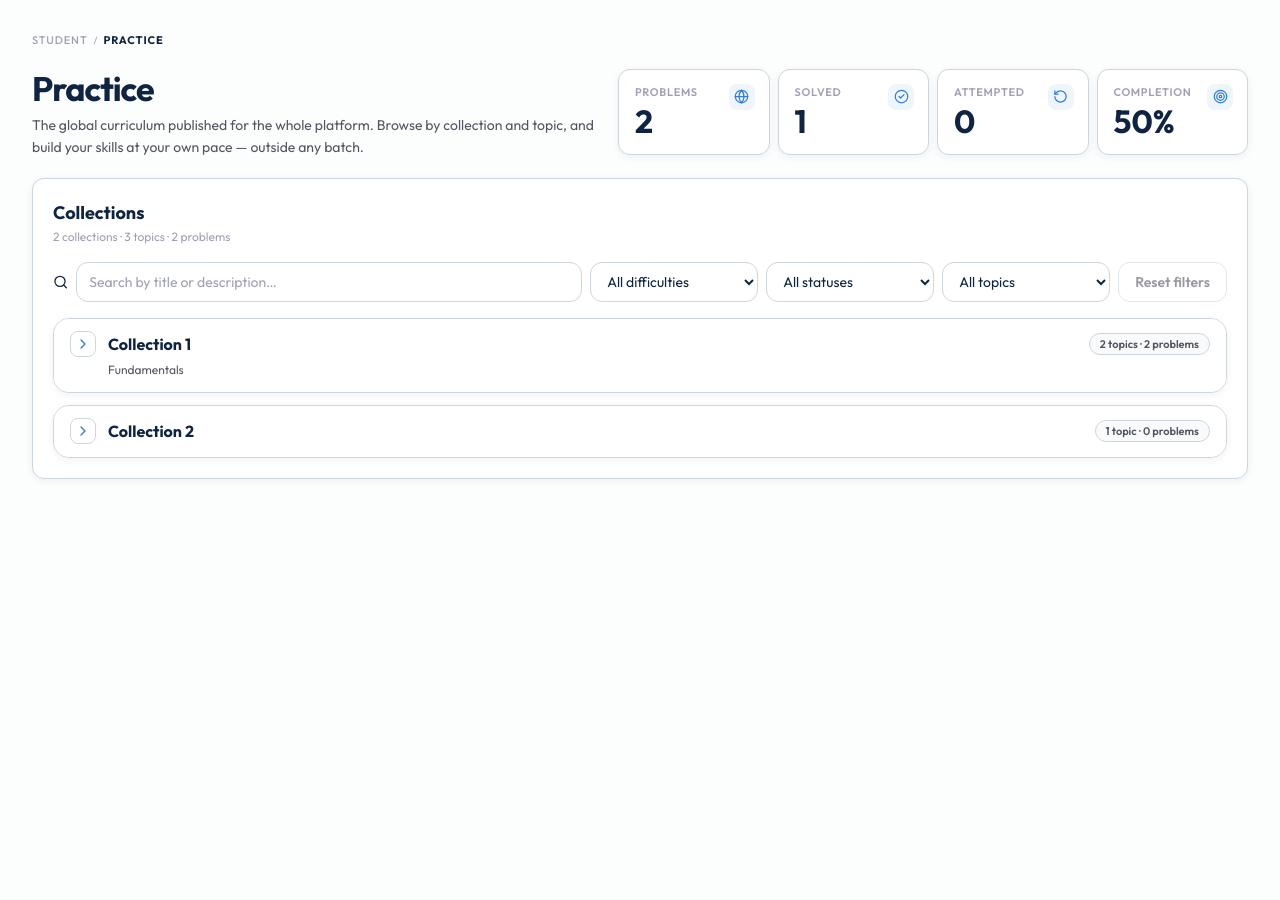
Test: a topic expands and collapses independently of its siblings
Expected: the text "Collection 1" is shown, [108,334,191,354]
Click the button "Collection 1 2 topics · 2 problems": (150, 344) [70,331,1210,357]
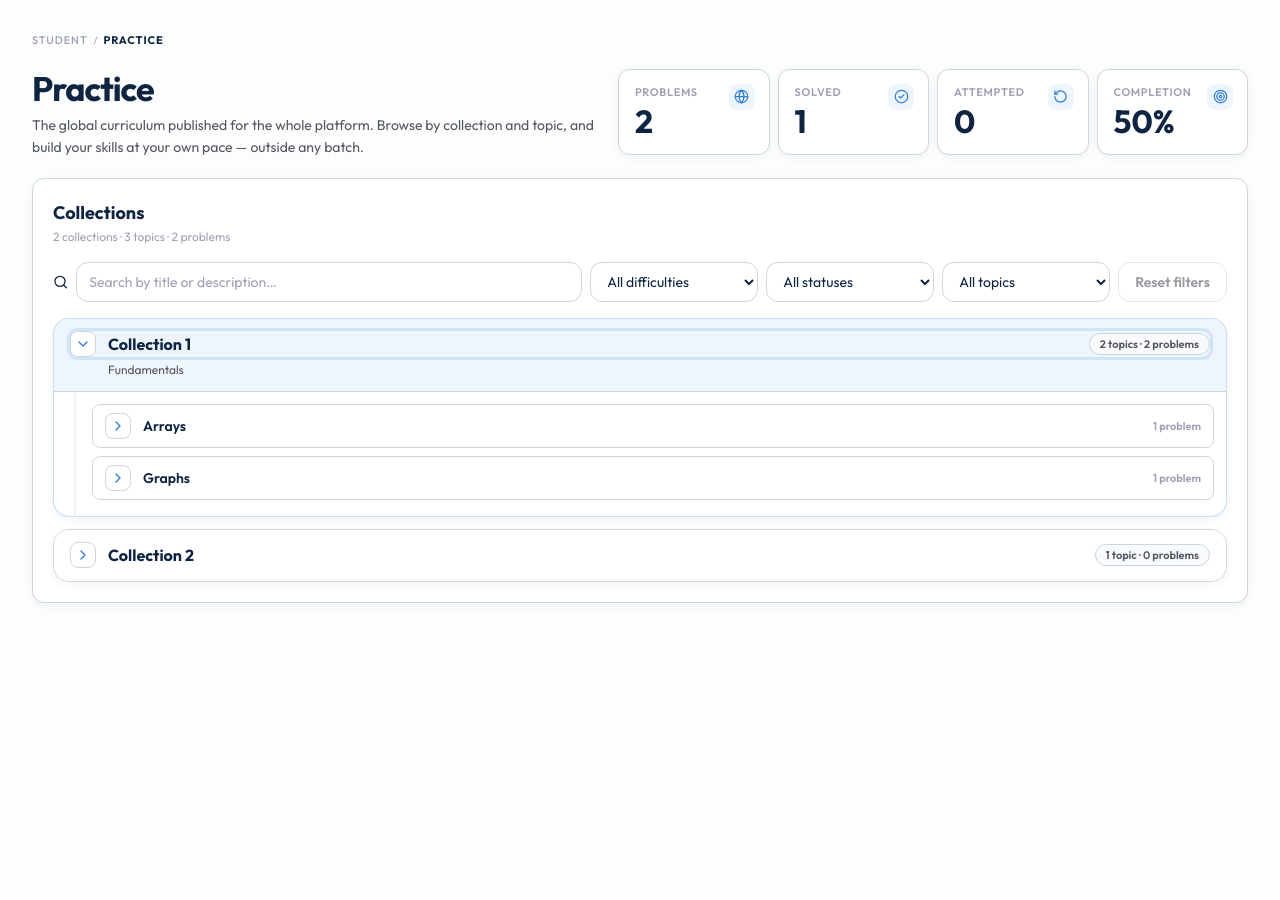
Expected: the button "Arrays 1 problem" is shown
Click the button "Arrays 1 problem": (165, 426) [105,413,1201,439]
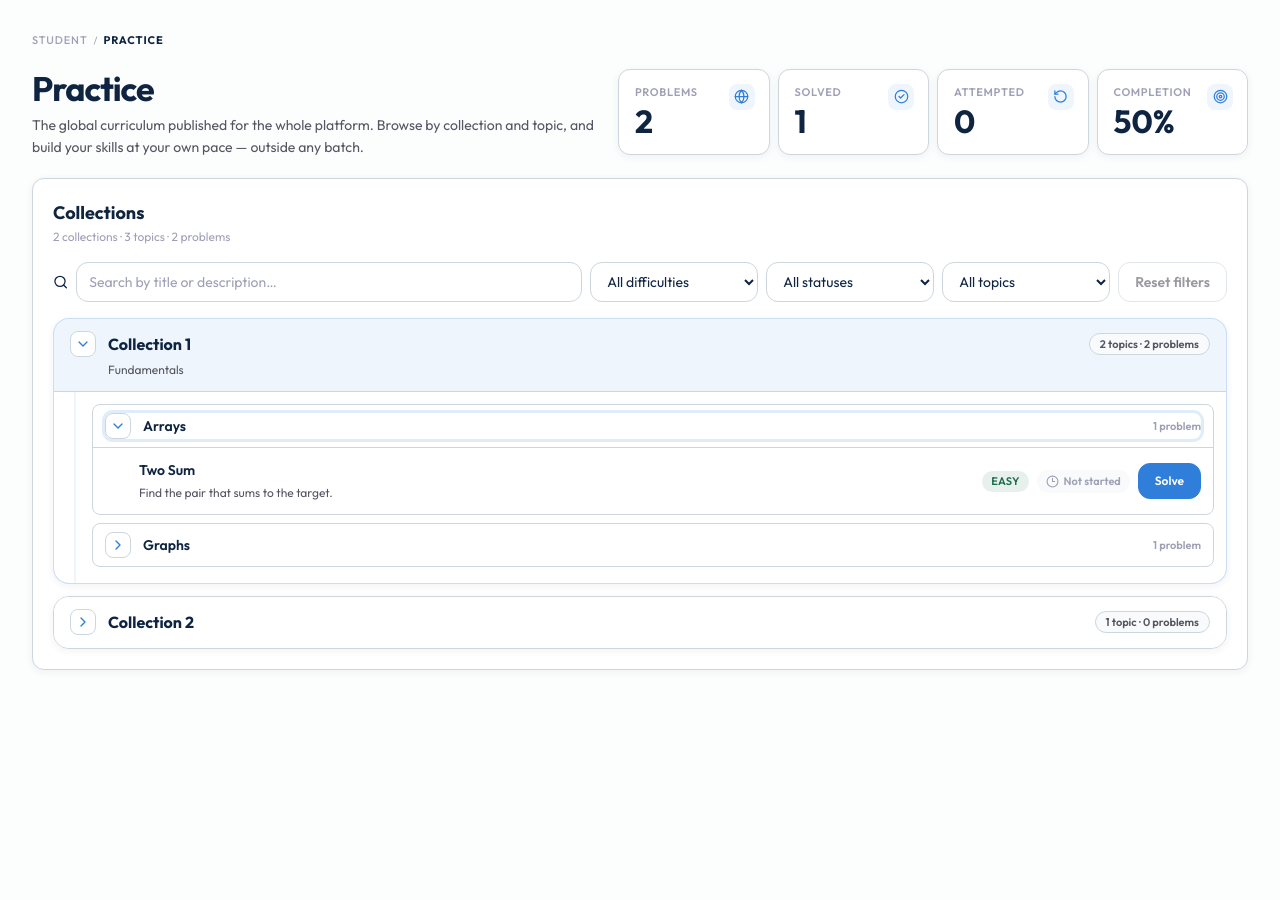
Expected: the text "Graph Walk" is not shown
Expected: the button "Arrays 1 problem" is expanded
Expected: the text "Two Sum" is shown, [139,461,195,479]
Click the button "Arrays 1 problem": (165, 426) [105,413,1201,439]
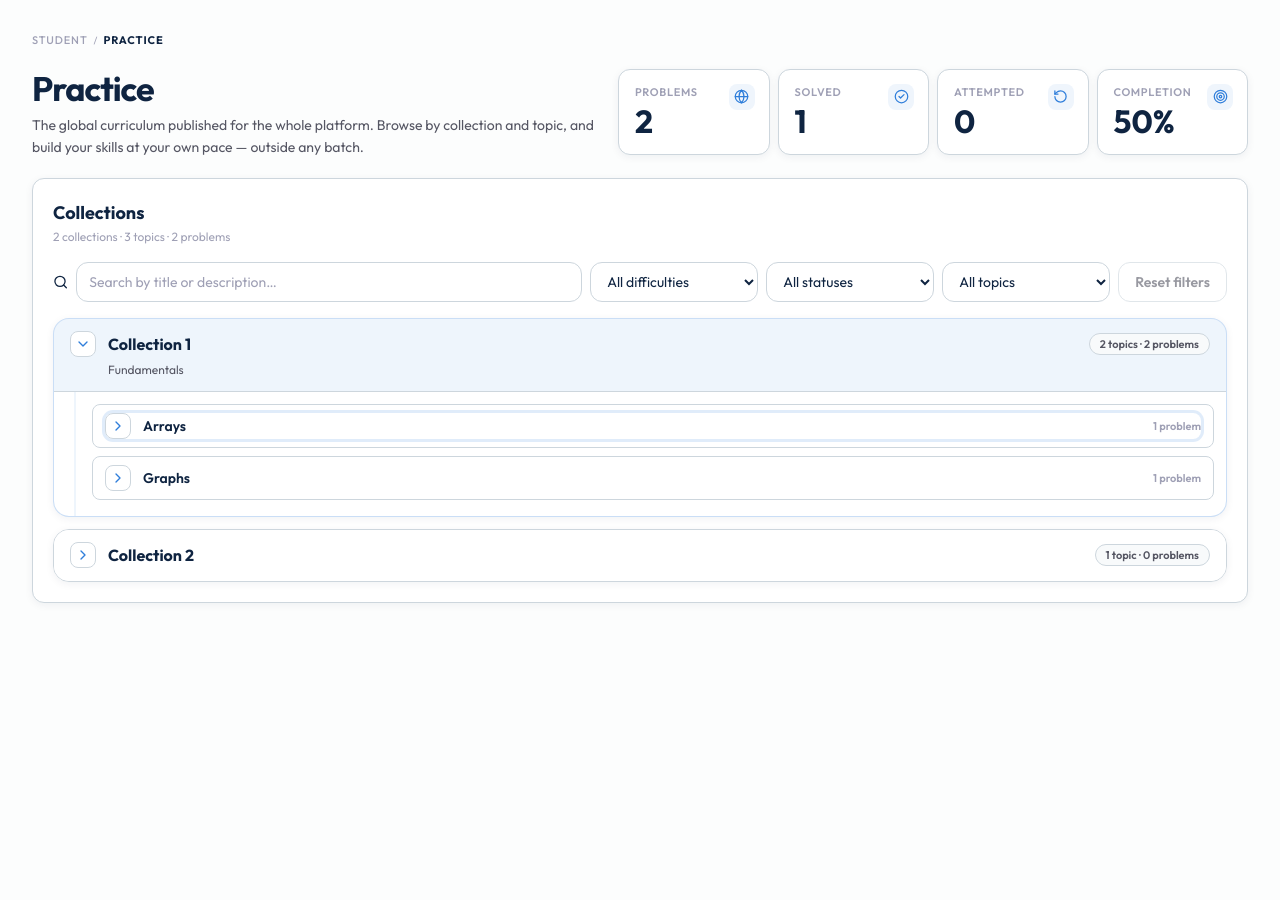
Expected: the button "Arrays 1 problem" is collapsed, [105,413,1201,439]
Expected: the text "Two Sum" is gone
// The sibling still expands on its own.
Click the button "Graphs 1 problem": (167, 478) [105,465,1201,491]
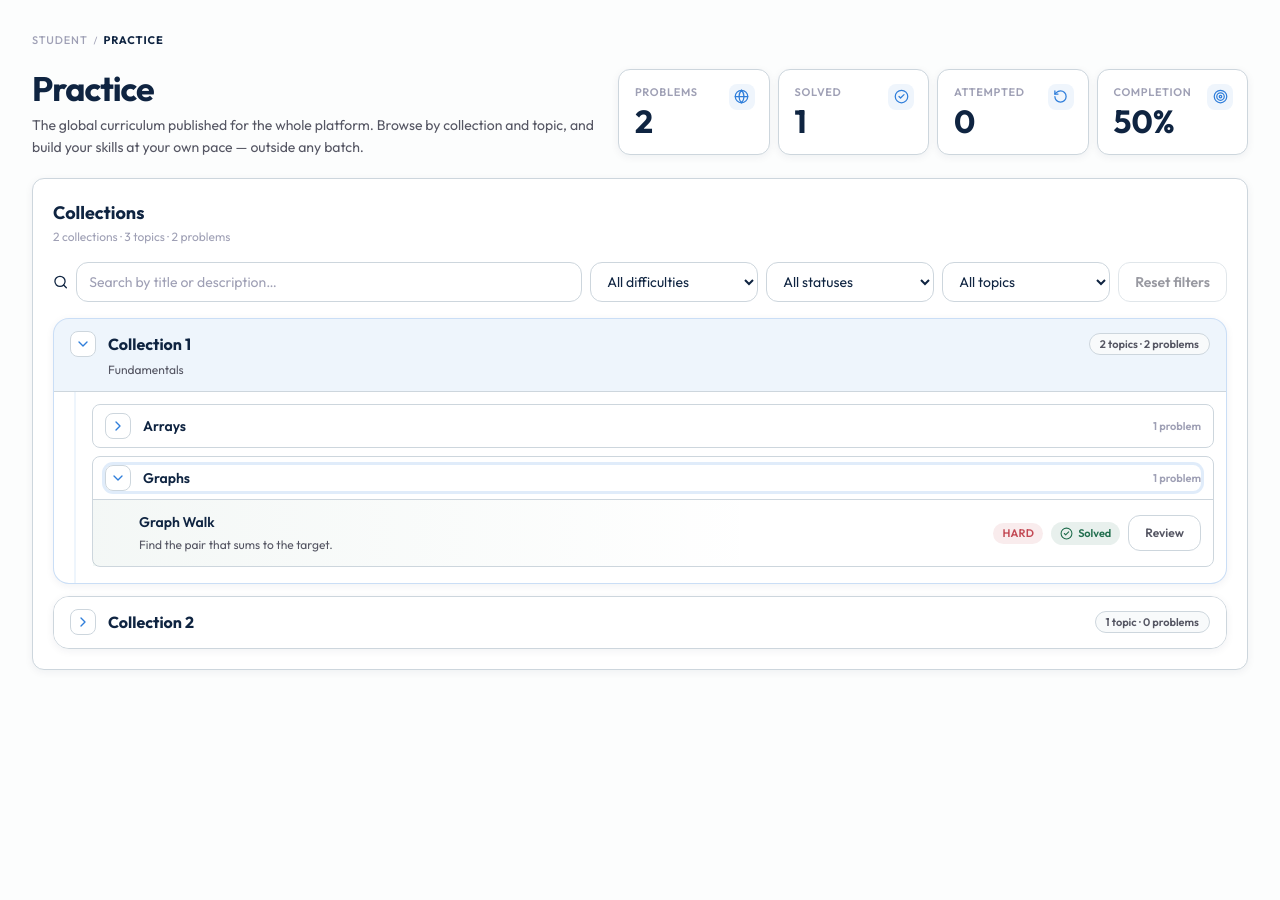
Expected: the text "Graph Walk" is shown, [139,513,215,531]
